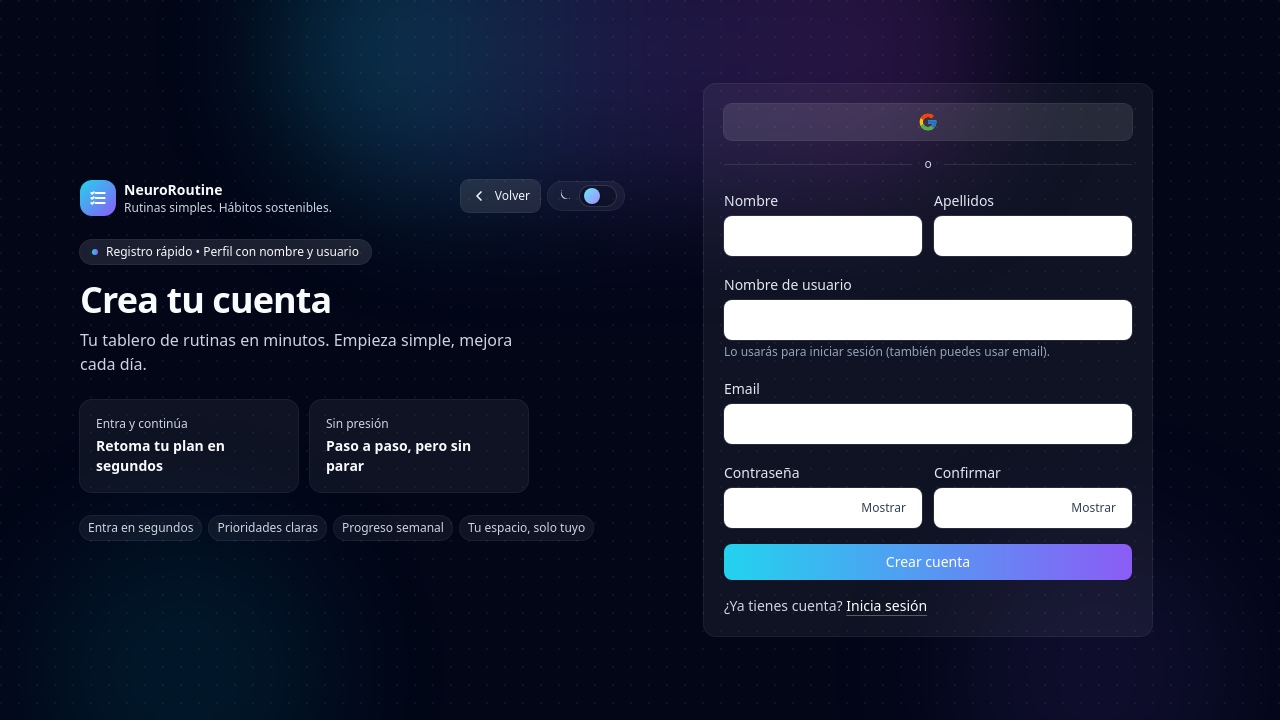
Test: RegisterPage › signs up with Google and shows an error message when it fails
Click the button named "Continuar con Google". click: (928, 122)
box: [724,104,1132,140]
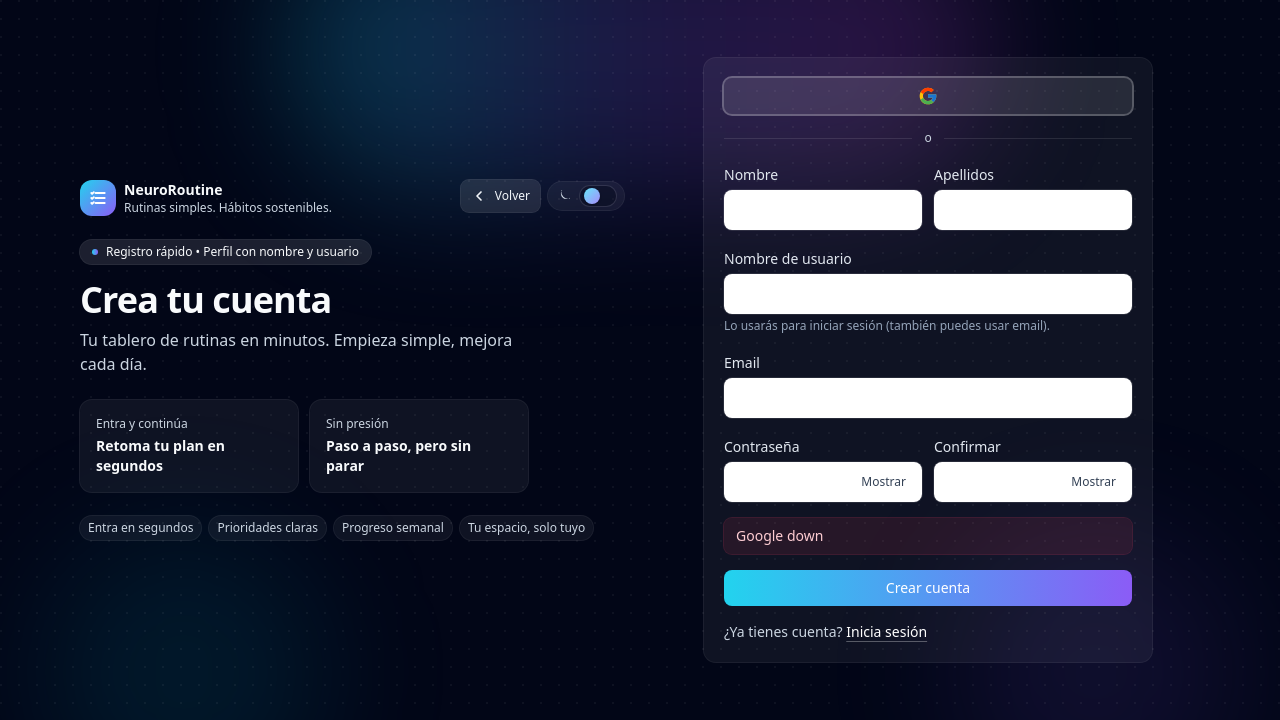
Now the text "Google down" is shown, box [724,518,1132,554]
